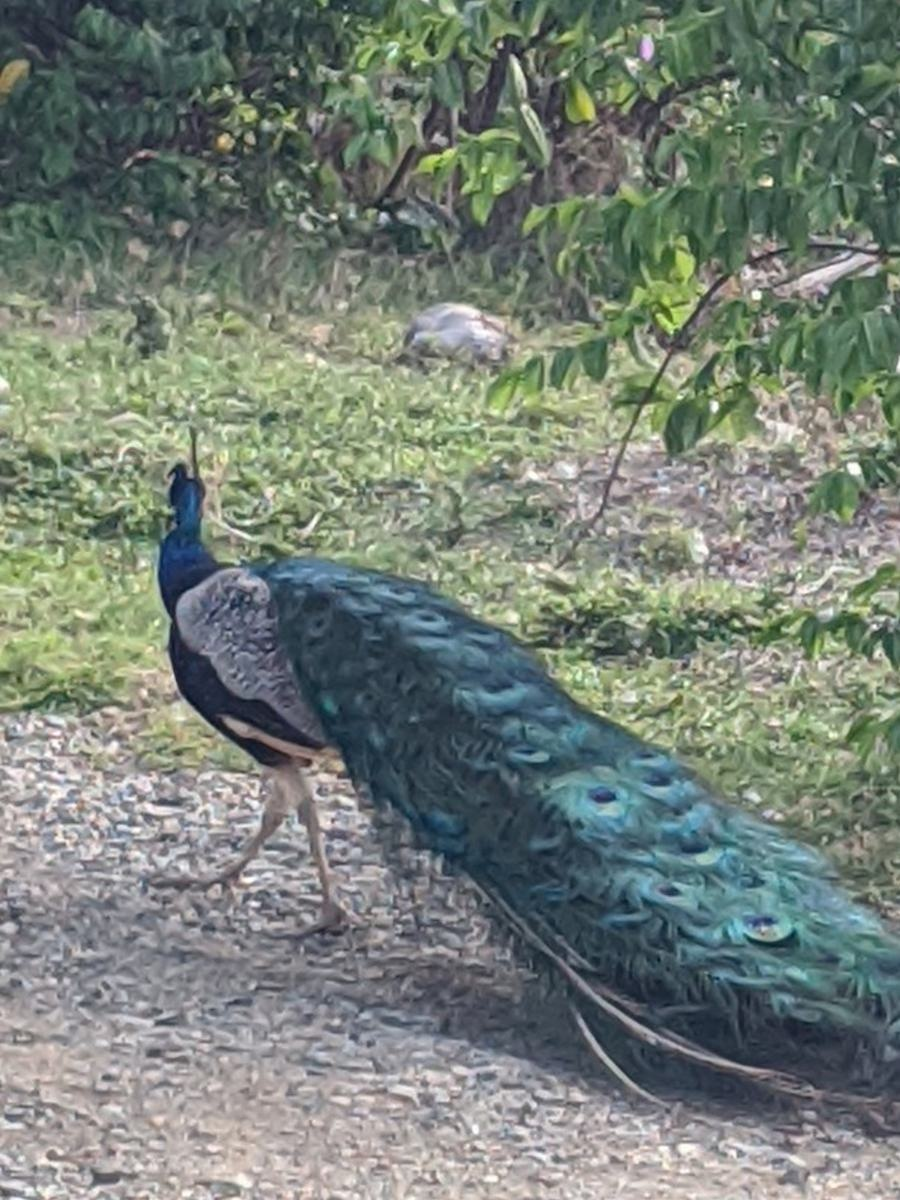peacock: (134, 417, 900, 1133)
